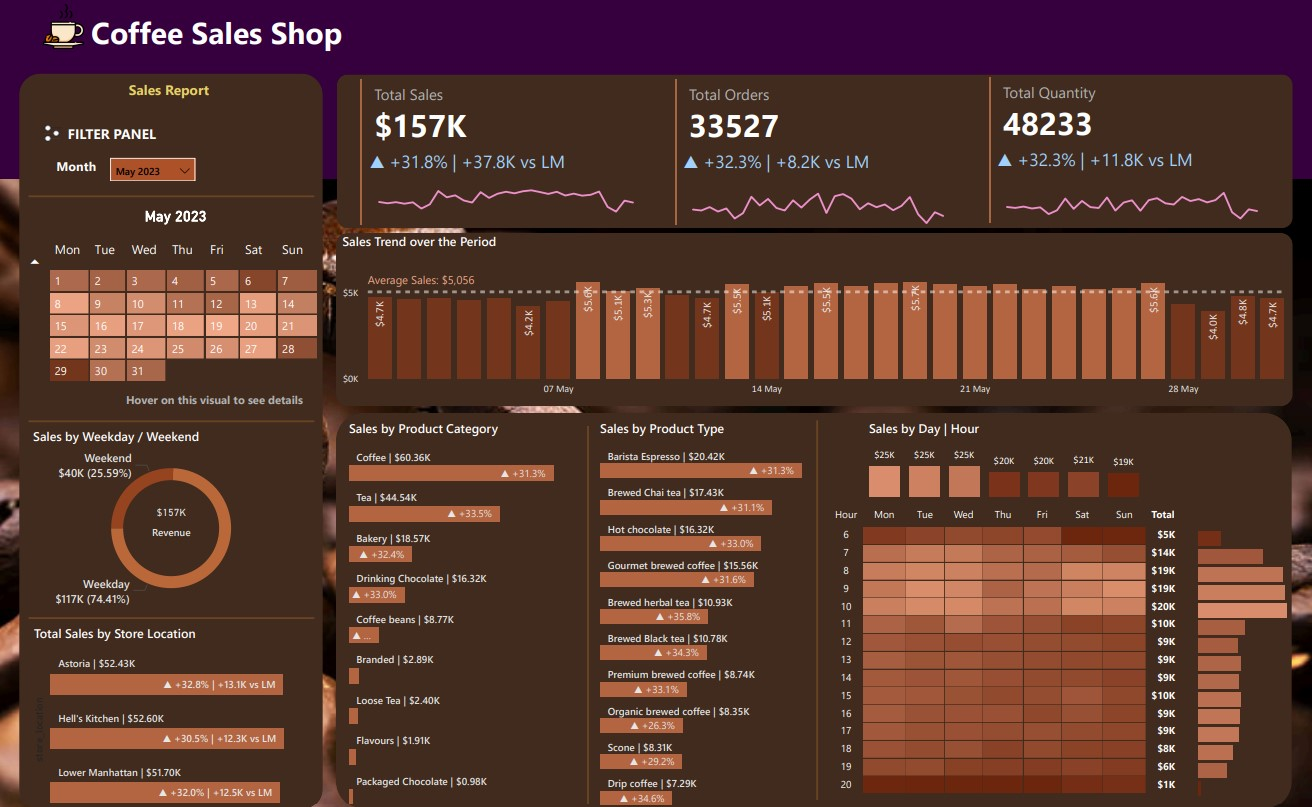

Layout of this report page (visuals, bound fields, positions):
{"tool":"powerbi","page":{"name":"Page 1","canvas":[1400,865],"ordinal":0},"visuals":[{"type":"shape","box":[0,0,1400.4,192.2],"z":0},{"type":"cardVisual","fields":{"Data":["Coffee_Sales.Total Quantity"]},"box":[1050.8,78.3,310,165.2],"z":0,"group":"g3"},{"type":"cardVisual","fields":{"Data":["Coffee_Sales.Total Sales"]},"box":[379.7,79.7,310,165.2],"z":0,"group":"g1"},{"type":"cardVisual","fields":{"Data":["Coffee_Sales.Total Orders"]},"box":[715.6,79.7,310,165.2],"z":0,"group":"g2"},{"type":"shape","box":[21.2,79.1,324.2,785.8],"z":1000},{"type":"lineChart","fields":{"Category":["Date Table.Date.Variation.Date Hierarchy.Year"],"Y":["Coffee_Sales.Total Quantity"]},"box":[1060.2,158,296.5,85.5],"z":1000,"group":"g3"},{"type":"lineChart","fields":{"Y":["Coffee_Sales.Total Sales"],"Category":["Date Table.Date.Variation.Date Hierarchy.Year"]},"box":[389.2,159.4,301.3,85.5],"z":1000,"group":"g1"},{"type":"lineChart","fields":{"Category":["Date Table.Date.Variation.Date Hierarchy.Year"],"Y":["Coffee_Sales.Total Orders"]},"box":[725,159.4,296.5,85.5],"z":1000,"group":"g2"},{"type":"shape","box":[360,80,1020,164.3],"z":2000},{"type":"textbox","box":[93,8.2,292.6,56.8],"z":3000},{"type":"slicer","fields":{"Values":["Date Table.Month Year"]},"box":[113,163.7,100.9,28.9],"z":4000},{"type":"group","id":"g1","title":"Group 1","box":[379.7,79.7,310.8,165.2],"z":5000},{"type":"group","id":"g2","title":"Group 1","box":[715.6,79.7,310.2,165.2],"z":6000},{"type":"group","id":"g3","title":"Group 1","box":[1050.8,78.3,310.2,165.2],"z":7000},{"type":"pivotTable","fields":{"Rows":["Date Table.Week Number"],"Columns":["Date Table.Day Name"],"Values":["Min(Date Table.Day Number)"]},"box":[22.9,250,324.3,192.9],"z":8000},{"type":"card","fields":{"Values":["Min(Date Table.Month Year)"]},"box":[127.1,217.1,121.4,30],"z":9000},{"type":"textbox","box":[130,412.9,237.1,30],"z":10000},{"type":"shape","box":[31.4,652.9,304.3,14.3],"z":11000},{"type":"shape","box":[31.4,202.9,304.3,14.3],"z":12000},{"type":"donutChart","title":"Sales by Weekday / Weekend","fields":{"Category":["Date Table.Weekday / Weekend"],"Y":["Coffee_Sales.Total Sales"]},"box":[31.4,457.1,304.3,195.7],"z":13000},{"type":"card","fields":{"Values":["Coffee_Sales.Total Sales"]},"box":[121.4,524.3,124.3,62.9],"z":14000},{"type":"shape","box":[31.4,442.9,304.3,14.3],"z":15000},{"type":"shape","box":[359.5,249.3,1020.4,185],"z":16000},{"type":"columnChart","title":"Sales Trend over the Period","fields":{"Category":["Coffee_Sales.transaction_date"],"Y":["Coffee_Sales.Total Sales"]},"box":[360.9,249.3,1018.9,182.6],"z":17000},{"type":"shape","box":[358.7,441.3,1020.6,423.2],"z":18000},{"type":"clusteredBarChart","title":"Sales by Product Category","fields":{"Y":["Coffee_Sales.Placeholder","Coffee_Sales.Total Sales"],"Category":["Coffee_Sales.product_category"]},"box":[368.1,449.3,259.4,416],"z":19000},{"type":"clusteredBarChart","title":"Total Sales by Store Location","fields":{"Category":["Coffee_Sales.store_location"],"Y":["Coffee_Sales.Placeholder","Coffee_Sales.Total Sales"]},"box":[31.7,666.7,305,198.3],"z":20000},{"type":"clusteredBarChart","title":"Sales by Product Type","fields":{"Y":["Coffee_Sales.Placeholder","Coffee_Sales.Total Sales"],"Category":["Coffee_Sales.product_type"]},"box":[636.3,449.3,259.4,416],"z":21000},{"type":"shape","box":[863.8,449.3,17.4,404.4],"z":22000},{"type":"shape","box":[620.3,455.1,15.9,404.4],"z":23000},{"type":"pivotTable","fields":{"Rows":["Coffee_Sales.Hour"],"Columns":["Date Table.Day Name"],"Values":["Coffee_Sales.Total Sales"]},"box":[881.2,536.3,392.8,329],"z":24000},{"type":"barChart","fields":{"Category":["Coffee_Sales.Hour"],"Y":["Coffee_Sales.Total Sales"]},"box":[1274,555.1,105.8,298.6],"z":25000},{"type":"columnChart","title":"Sales by Day | Hour","fields":{"Y":["Coffee_Sales.Total Sales"],"Category":["Date Table.Day Name"]},"box":[923.3,449.3,298.6,87],"z":26000},{"type":"textbox","box":[56,163.7,60.8,28.9],"z":27000},{"type":"textbox","box":[133.3,81.2,113.1,30.4],"z":28000},{"type":"textbox","box":[68.1,127.5,120.3,30.4],"z":29000},{"type":"image","box":[39.4,127.8,33.7,30.3],"z":30000},{"type":"image","box":[38.7,0,59.3,56.8],"z":31000}]}

Visuals, with their boxes in screenshot pixels (x1, y1, x2, y2), scaled from the page's 1400x865 canvas onto the 1312x807 screenshot:
shape: {"left": 0, "top": 0, "right": 1311, "bottom": 179}
cardVisual - Coffee_Sales.Total Quantity: {"left": 985, "top": 73, "right": 1275, "bottom": 227}
cardVisual - Coffee_Sales.Total Sales: {"left": 356, "top": 74, "right": 646, "bottom": 228}
cardVisual - Coffee_Sales.Total Orders: {"left": 671, "top": 74, "right": 961, "bottom": 228}
shape: {"left": 20, "top": 74, "right": 324, "bottom": 806}
lineChart - Date Table.Date.Variation.Date Hierarchy.Year x Coffee_Sales.Total Quantity: {"left": 994, "top": 147, "right": 1271, "bottom": 227}
lineChart - Coffee_Sales.Total Sales x Date Table.Date.Variation.Date Hierarchy.Year: {"left": 365, "top": 149, "right": 647, "bottom": 228}
lineChart - Date Table.Date.Variation.Date Hierarchy.Year x Coffee_Sales.Total Orders: {"left": 679, "top": 149, "right": 957, "bottom": 228}
shape: {"left": 337, "top": 75, "right": 1293, "bottom": 228}
textbox: {"left": 87, "top": 8, "right": 361, "bottom": 61}
slicer - Date Table.Month Year: {"left": 106, "top": 153, "right": 200, "bottom": 180}
"Group 1" group: {"left": 356, "top": 74, "right": 647, "bottom": 228}
"Group 1" group: {"left": 671, "top": 74, "right": 961, "bottom": 228}
"Group 1" group: {"left": 985, "top": 73, "right": 1275, "bottom": 227}
pivotTable - Date Table.Week Number x Date Table.Day Name: {"left": 21, "top": 233, "right": 325, "bottom": 413}
card - Min(Date Table.Month Year): {"left": 119, "top": 203, "right": 233, "bottom": 231}
textbox: {"left": 122, "top": 385, "right": 344, "bottom": 413}
shape: {"left": 29, "top": 609, "right": 315, "bottom": 622}
shape: {"left": 29, "top": 189, "right": 315, "bottom": 203}
"Sales by Weekday / Weekend" donutChart: {"left": 29, "top": 426, "right": 315, "bottom": 609}
card - Coffee_Sales.Total Sales: {"left": 114, "top": 489, "right": 230, "bottom": 548}
shape: {"left": 29, "top": 413, "right": 315, "bottom": 427}
shape: {"left": 337, "top": 233, "right": 1293, "bottom": 405}
"Sales Trend over the Period" columnChart: {"left": 338, "top": 233, "right": 1293, "bottom": 403}
shape: {"left": 336, "top": 412, "right": 1293, "bottom": 806}
"Sales by Product Category" clusteredBarChart: {"left": 345, "top": 419, "right": 588, "bottom": 806}
"Total Sales by Store Location" clusteredBarChart: {"left": 30, "top": 622, "right": 316, "bottom": 806}
"Sales by Product Type" clusteredBarChart: {"left": 596, "top": 419, "right": 839, "bottom": 806}
shape: {"left": 810, "top": 419, "right": 826, "bottom": 796}
shape: {"left": 581, "top": 425, "right": 596, "bottom": 802}
pivotTable - Coffee_Sales.Hour x Date Table.Day Name: {"left": 826, "top": 500, "right": 1194, "bottom": 806}
barChart - Coffee_Sales.Hour x Coffee_Sales.Total Sales: {"left": 1194, "top": 518, "right": 1293, "bottom": 796}
"Sales by Day | Hour" columnChart: {"left": 865, "top": 419, "right": 1145, "bottom": 500}
textbox: {"left": 52, "top": 153, "right": 109, "bottom": 180}
textbox: {"left": 125, "top": 76, "right": 231, "bottom": 104}
textbox: {"left": 64, "top": 119, "right": 177, "bottom": 147}
image: {"left": 37, "top": 119, "right": 69, "bottom": 147}
image: {"left": 36, "top": 0, "right": 92, "bottom": 53}
